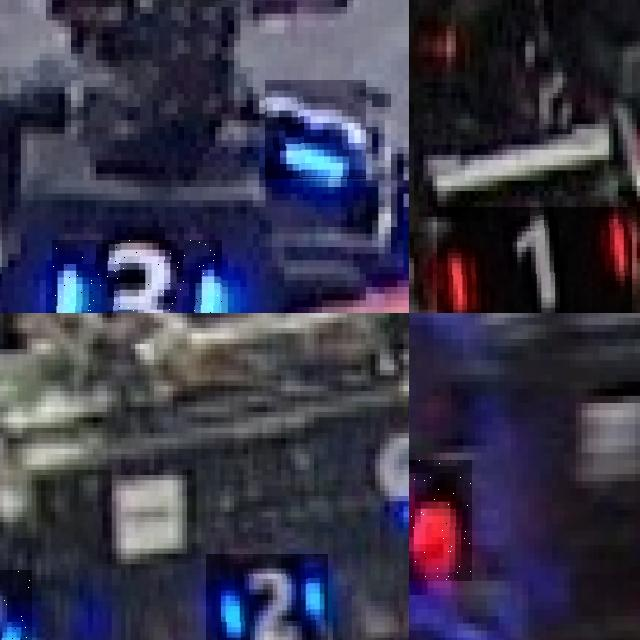B2: (205, 553, 328, 640), (0, 569, 31, 640)
B3: (52, 240, 221, 313), (265, 80, 366, 180)
R1: (437, 206, 632, 313)
R2: (409, 460, 472, 581)
